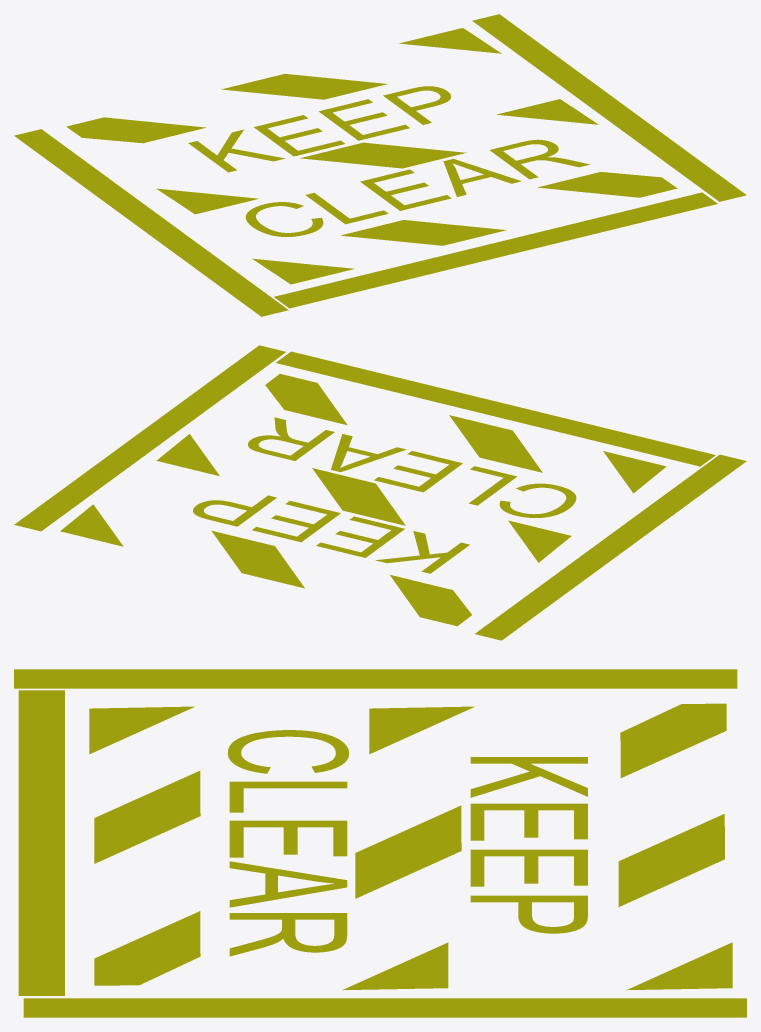
The model's file is Ground_decal_keep_clear.FBX.
The picture shows the model from 3 angles, top to bottom: view 1: azimuth 30°, elevation 25°; view 2: azimuth 150°, elevation 25°; view 3: azimuth 270°, elevation 25°; orthographic projection. The views are drawn at different scales.
Parts seen in each view (by area): view 1: Ground_keep_out; view 2: Ground_keep_out; view 3: Ground_keep_out.
Boxes of the visible parts, x1=… form: Ground_keep_out: x1=14, y1=14, x2=746, y2=316; Ground_keep_out: x1=14, y1=345, x2=746, y2=640; Ground_keep_out: x1=14, y1=669, x2=746, y2=1017.
Bounding box in the file's own units: 240 × 1.31e-14 × 213.
